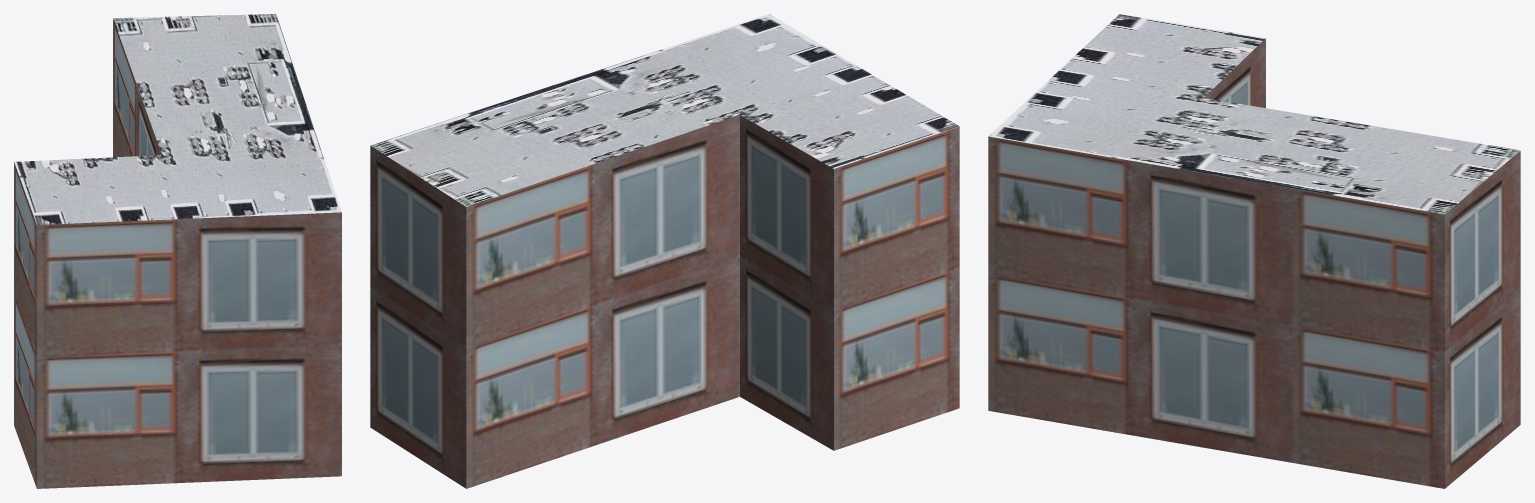
The model's file is ResTex__2593.fbx.
The picture shows the model from 3 angles, left to right: view 1: azimuth 30°, elevation 25°; view 2: azimuth 150°, elevation 25°; view 3: azimuth 270°, elevation 25°; orthographic projection. The views are drawn at different scales.
Visible parts, largest first — view 1: CityEngineMaterial_19_m, CityEngineMaterial_15_m; view 2: CityEngineMaterial_19_m, CityEngineMaterial_15_m; view 3: CityEngineMaterial_19_m, CityEngineMaterial_15_m.
Boxes of the visible parts, box(x1,y1,x2,y2) form: CityEngineMaterial_19_m: box(14, 18, 341, 488); CityEngineMaterial_15_m: box(14, 14, 341, 224); CityEngineMaterial_19_m: box(370, 115, 959, 488); CityEngineMaterial_15_m: box(370, 14, 959, 206); CityEngineMaterial_19_m: box(988, 38, 1520, 488); CityEngineMaterial_15_m: box(988, 14, 1520, 214).
Size of the model in its own units: 9.41 by 6 by 10.56.
2 materials, 2 textured.
